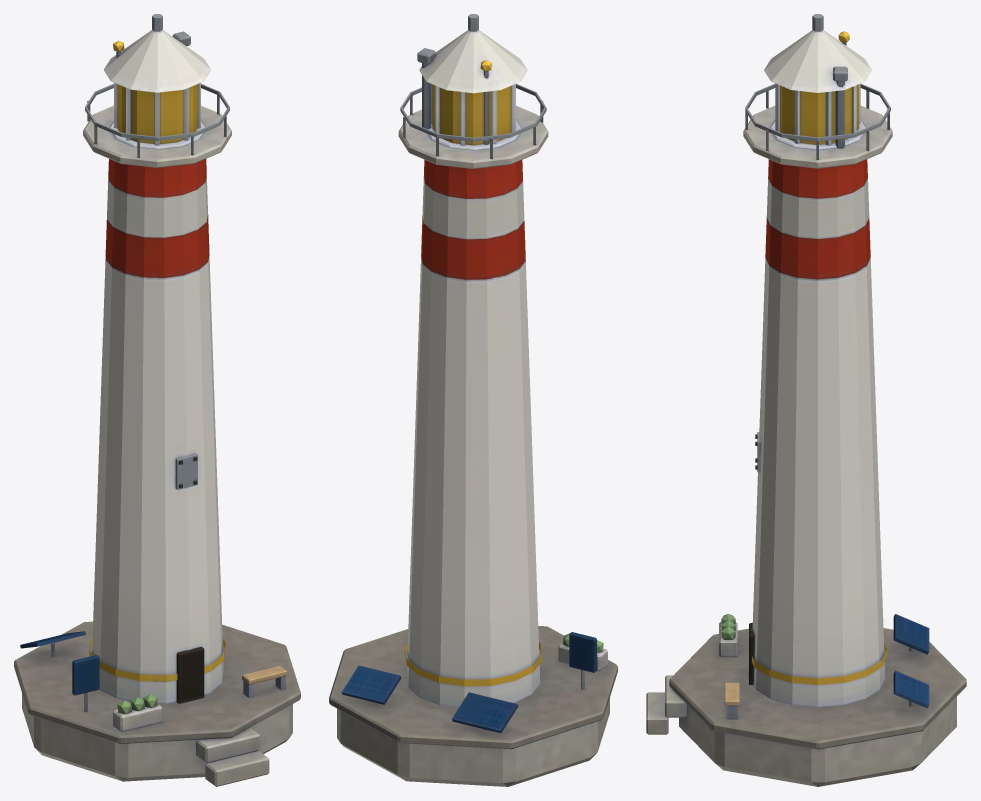
File: lighthouse-25.glb
The picture shows the model from 3 angles, left to right: view 1: azimuth 30°, elevation 25°; view 2: azimuth 150°, elevation 25°; view 3: azimuth 270°, elevation 25°; orthographic projection.
Visible parts, largest first — view 1: lighthouse-25; view 2: lighthouse-25; view 3: lighthouse-25.
Boxes of the visible parts, x1,y1,x2,y2 form: lighthouse-25: (14, 14, 300, 786); lighthouse-25: (329, 14, 617, 786); lighthouse-25: (646, 14, 966, 786).
Size of the model in its own units: 1.59 by 4.22 by 1.72.
1 material, 1 textured.
